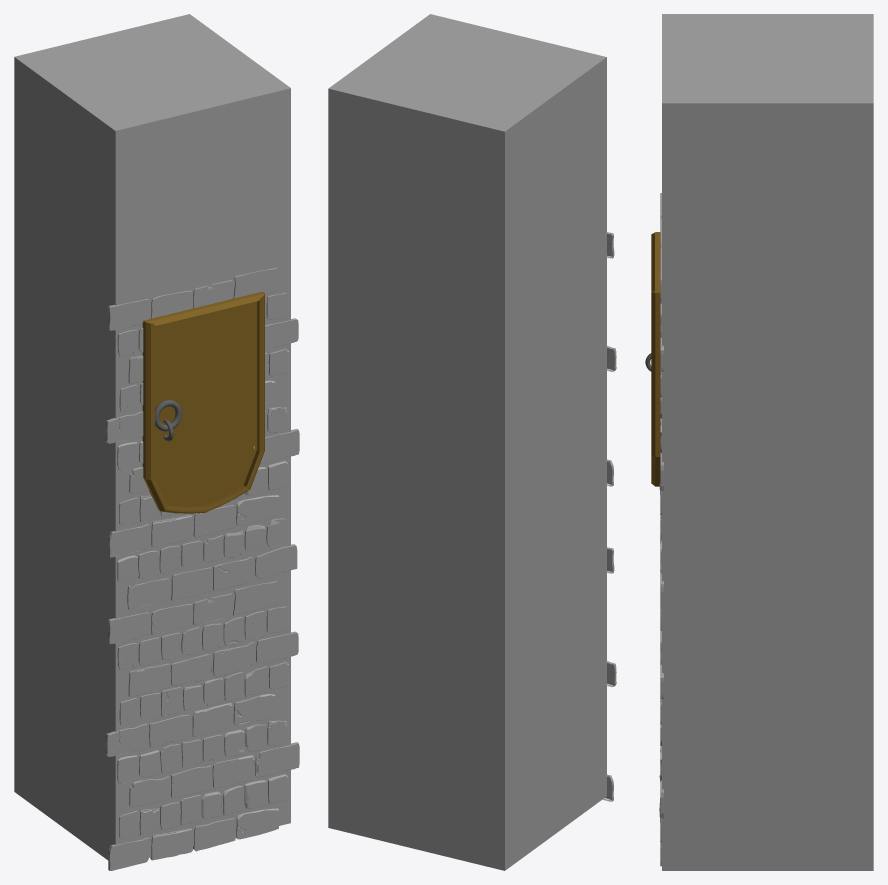
Rendered from Wall_4.obj.
The picture shows the model from 3 angles, left to right: view 1: azimuth 30°, elevation 25°; view 2: azimuth 150°, elevation 25°; view 3: azimuth 270°, elevation 25°; orthographic projection. The views are drawn at different scales.
Visible parts, largest first — view 1: Cube.002_Cube.004, BricksBloc.001_BricksBloc.002, Cube.012_Cube.014, Cube.004_Cube.006; view 2: Cube.002_Cube.004, BricksBloc.001_BricksBloc.002; view 3: Cube.002_Cube.004, Cube.004_Cube.006, BricksBloc.001_BricksBloc.002.
Part boxes in pixels (x1,y1,x2,y2): Cube.002_Cube.004: (14, 14, 290, 860); BricksBloc.001_BricksBloc.002: (105, 268, 299, 870); Cube.012_Cube.014: (155, 301, 256, 506); Cube.004_Cube.006: (142, 291, 264, 513); Cube.002_Cube.004: (328, 14, 606, 870); BricksBloc.001_BricksBloc.002: (602, 232, 616, 801); Cube.002_Cube.004: (662, 14, 873, 870); Cube.004_Cube.006: (651, 232, 660, 486); BricksBloc.001_BricksBloc.002: (659, 193, 663, 866).
Bounding box in the file's own units: 2.2 × 8.05 × 2.16.
